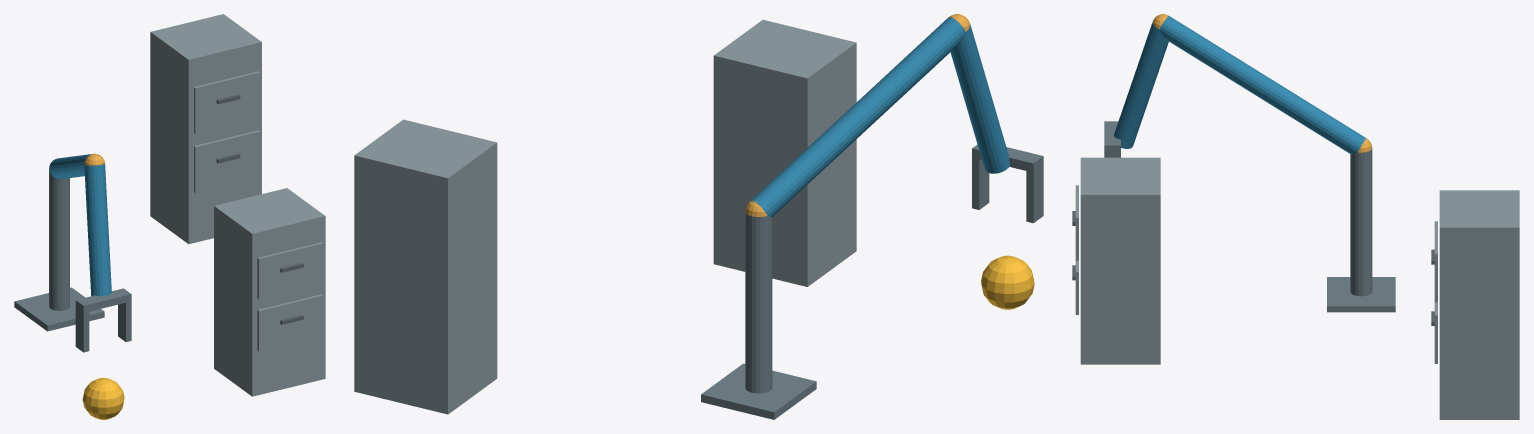
The picture shows the model from 3 angles, left to right: view 1: azimuth 30°, elevation 25°; view 2: azimuth 150°, elevation 25°; view 3: azimuth 270°, elevation 25°; orthographic projection. The views are drawn at different scales.
Visible parts, largest first — view 1: cabinet_2 body, cabinet_1 body, cabinet_2 drawer front.001, cabinet_2 drawer front, moving link 2, fixed post, cabinet_1 drawer front, cabinet_1 drawer front.001, pedestal, ball ball_1, gripper bridge, moving link 1 (+2 smaller); view 2: cabinet_2 body, cabinet_1 body, moving link 1, fixed post, moving link 2, pedestal, ball ball_1, gripper finger -1, gripper finger 1, gripper bridge; view 3: cabinet_2 body, cabinet_1 body, moving link 1, fixed post, moving link 2, pedestal, gripper bridge.
Boxes of the visible parts, x1,y1,x2,y2 form: cabinet_2 body: [150, 14, 261, 244]; cabinet_1 body: [214, 188, 325, 396]; cabinet_2 drawer front.001: [194, 71, 259, 134]; cabinet_2 drawer front: [194, 130, 259, 193]; moving link 2: [84, 164, 111, 296]; fixed post: [49, 168, 69, 310]; cabinet_1 drawer front: [257, 294, 323, 351]; cabinet_1 drawer front.001: [257, 242, 323, 299]; pedestal: [14, 287, 104, 331]; ball ball_1: [82, 377, 124, 419]; gripper bridge: [75, 288, 131, 312]; moving link 1: [49, 154, 102, 179]; cabinet_2 body: [354, 119, 497, 414]; cabinet_1 body: [713, 19, 856, 286]; moving link 1: [750, 17, 965, 217]; fixed post: [745, 211, 772, 393]; moving link 2: [950, 23, 1009, 173]; pedestal: [701, 363, 816, 419]; ball ball_1: [981, 255, 1034, 309]; gripper finger -1: [1026, 165, 1043, 223]; gripper finger 1: [972, 158, 989, 209]; gripper bridge: [972, 144, 1043, 172]; cabinet_2 body: [1439, 190, 1519, 419]; cabinet_1 body: [1080, 157, 1160, 364]; moving link 1: [1159, 16, 1366, 154]; fixed post: [1350, 148, 1372, 296]; moving link 2: [1114, 22, 1168, 148]; pedestal: [1327, 277, 1395, 312]; gripper bridge: [1104, 121, 1120, 153].
Bounding box in the file's own units: 1.48 × 1.01 × 1.62.
